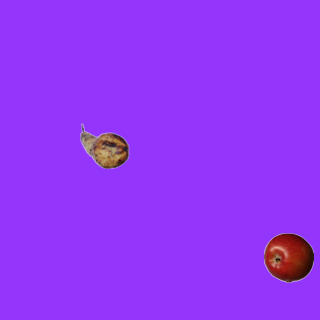Apple Braeburn: (263, 232, 313, 282)
Pear Abate: (79, 121, 129, 171)
